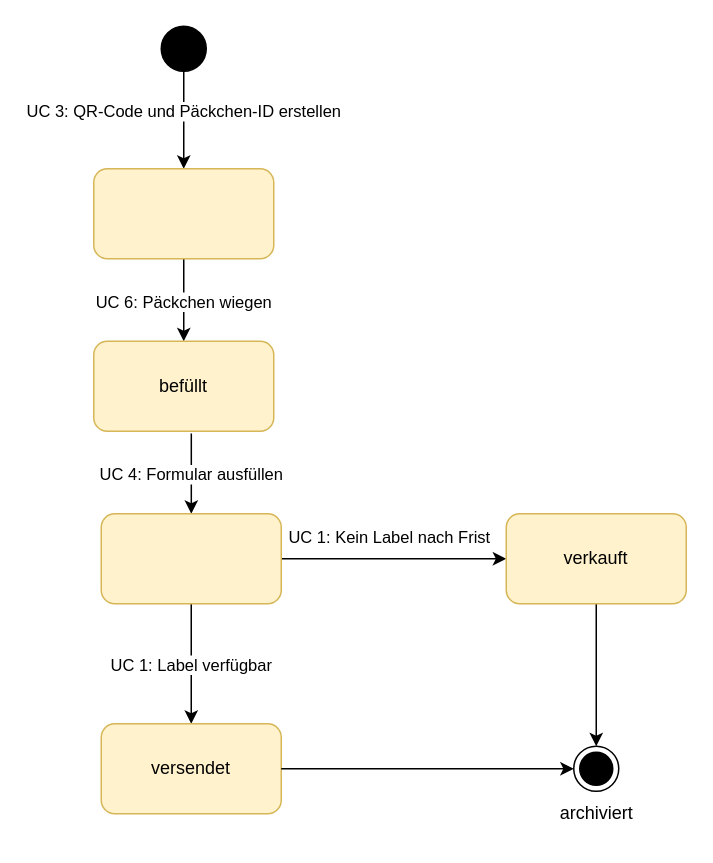
This 713x863 diagram has some shape labels left out. Each missing label, with the centre of its shape:
Bereit für Labeling: the point at 190,558
leer: the point at 183,213
